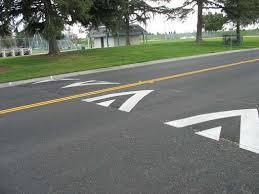speedbreaker: (48, 76, 259, 156)
